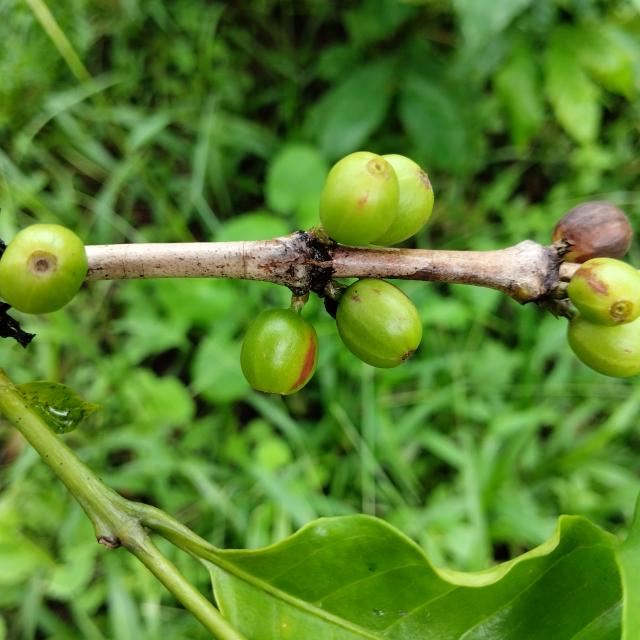green: (336, 278, 423, 368), (0, 224, 87, 314), (320, 151, 400, 246), (240, 309, 318, 395), (373, 154, 434, 245), (569, 258, 640, 326), (568, 314, 640, 378)
red: (553, 201, 634, 263)
